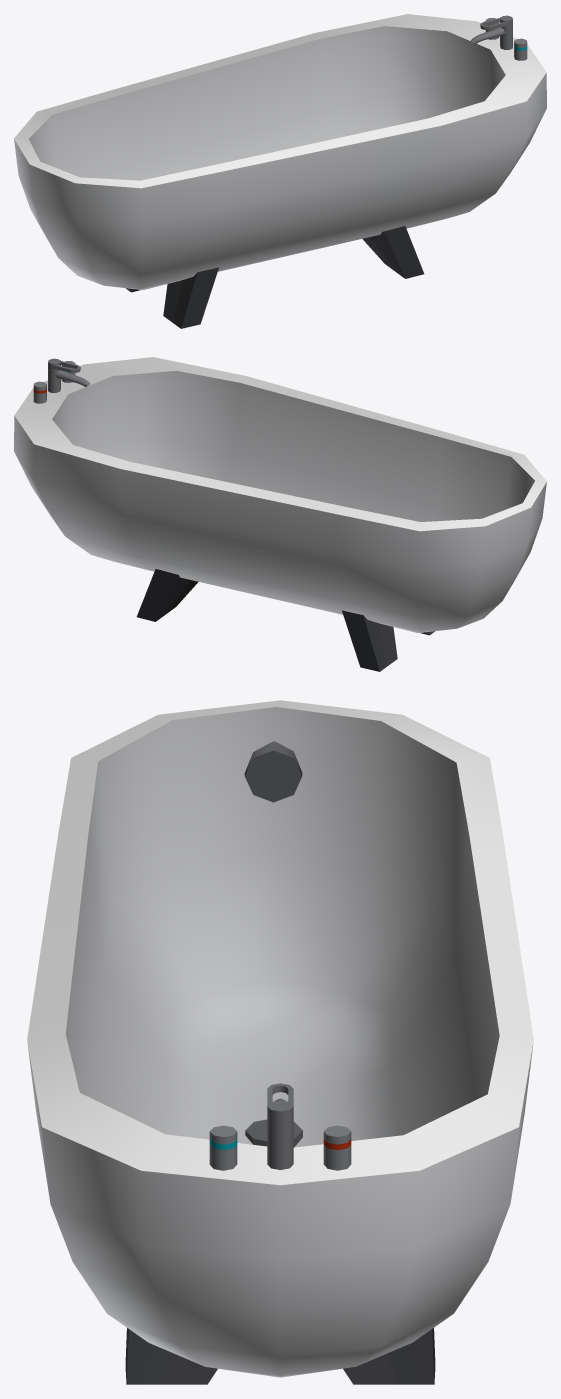
The model's file is SM_BathWhite_01.fbx.
3 views of the same model, one above another, from view 1: azimuth 30°, elevation 25°; view 2: azimuth 150°, elevation 25°; view 3: azimuth 270°, elevation 25° (orthographic). The views are drawn at different scales.
Parts seen in each view (by area): view 1: w; view 2: w; view 3: w.
Boxes of the visible parts, bbox=[...] form: w: bbox=[14, 14, 546, 328]; w: bbox=[14, 357, 546, 671]; w: bbox=[27, 700, 533, 1384].
Bounding box in the file's own units: 198 × 75.21 × 87.14.
